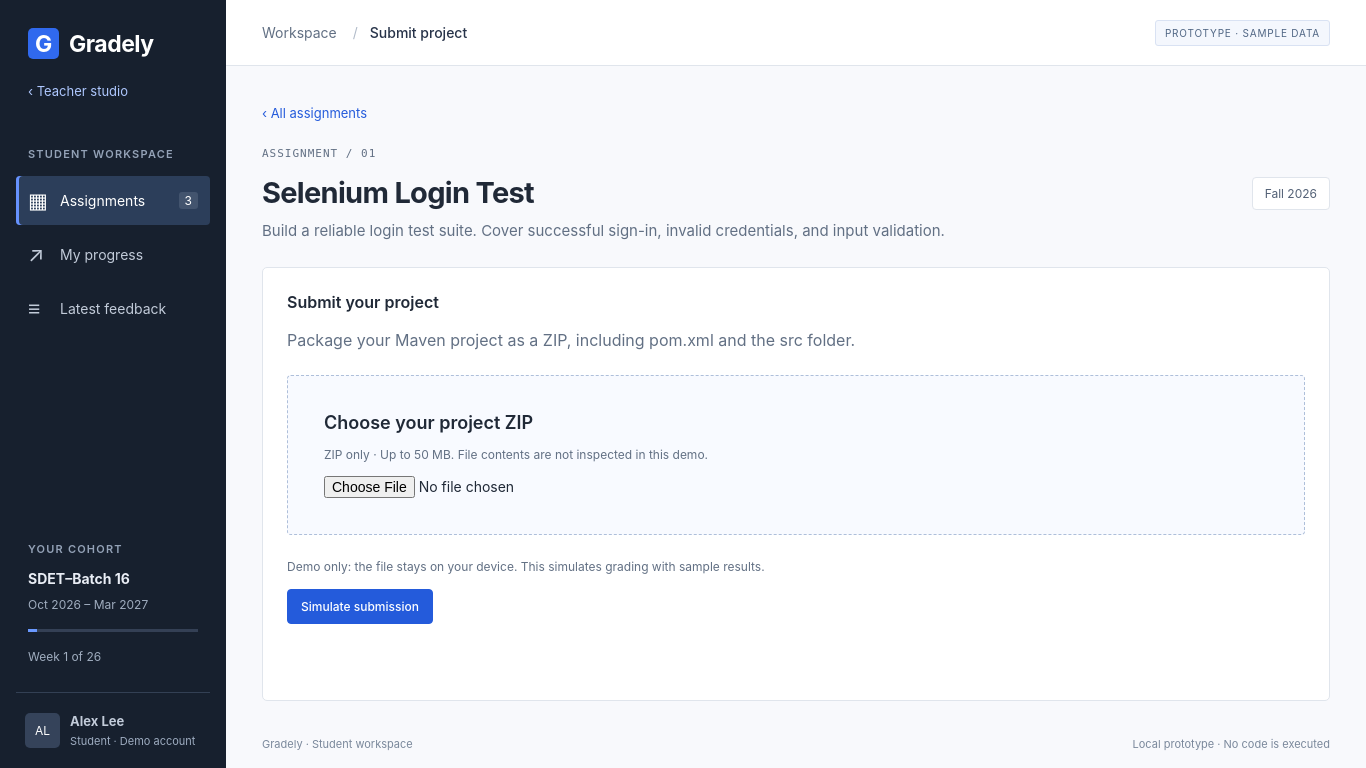
Test: submission boundaries › announces a missing file without starting the simulation
What coordinates should you click on to do the following:
click the button "Simulate submission"
I would click on:
 (360, 606)
Its box is [287,589,433,624].
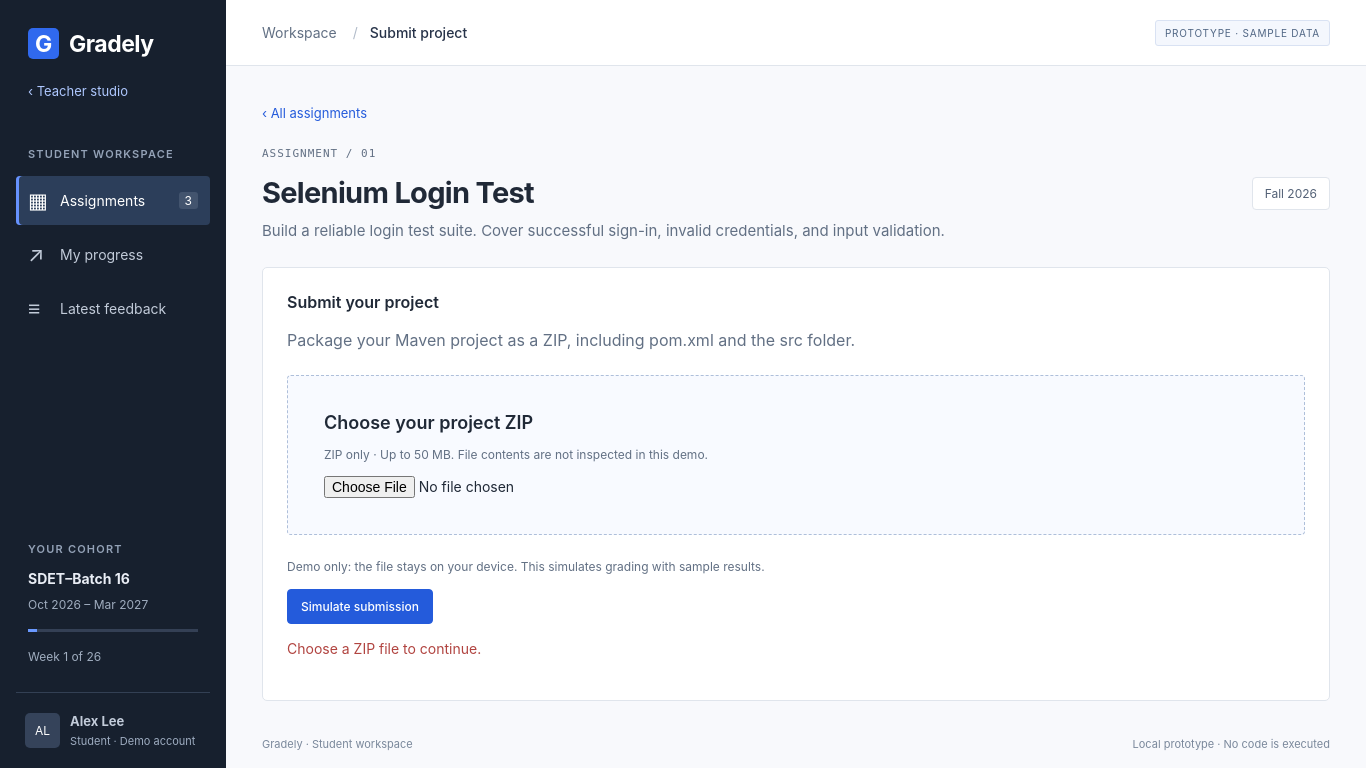
Now the message reads "Choose a ZIP file to continue.", box [287,640,481,657]
